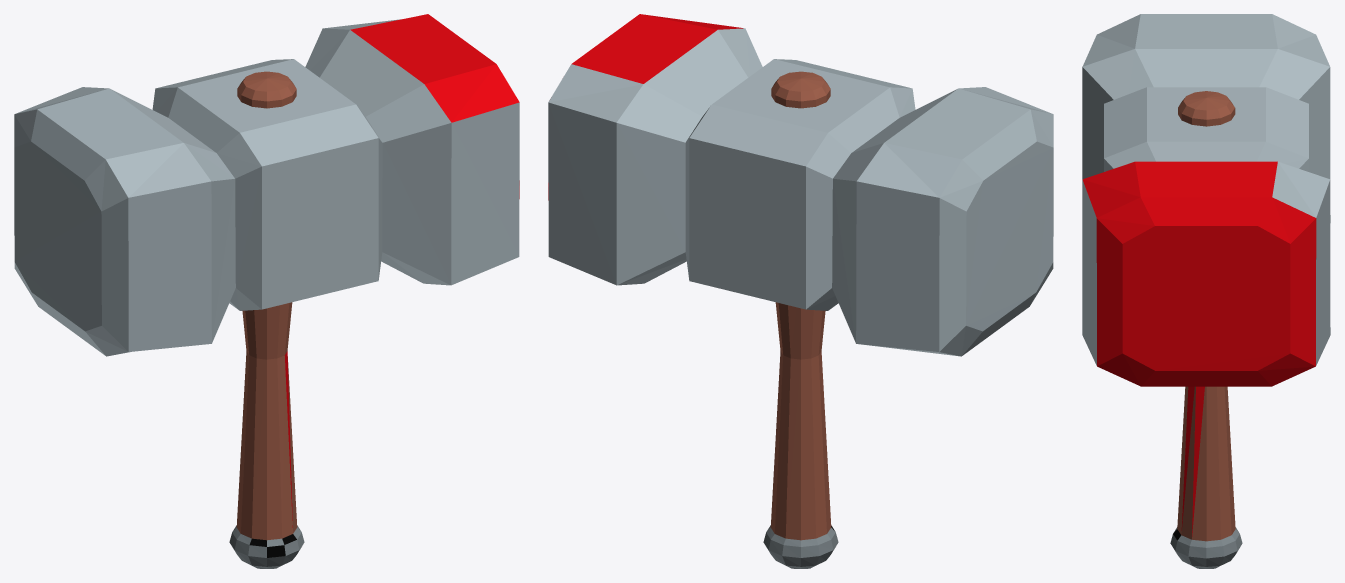
File: hammer.gltf
3 views of the same model, side by side, from view 1: azimuth 30°, elevation 25°; view 2: azimuth 150°, elevation 25°; view 3: azimuth 270°, elevation 25° (orthographic). The views are drawn at different scales.
Parts seen in each view (by area): view 1: hammer_uncommon; view 2: hammer_uncommon; view 3: hammer_uncommon.
Part boxes in pixels (bbox=[...]): hammer_uncommon: bbox=[14, 14, 519, 568]; hammer_uncommon: bbox=[548, 14, 1053, 568]; hammer_uncommon: bbox=[1082, 14, 1330, 568].
Size of the model in its own units: 0.7877 by 0.8701 by 0.4209.
